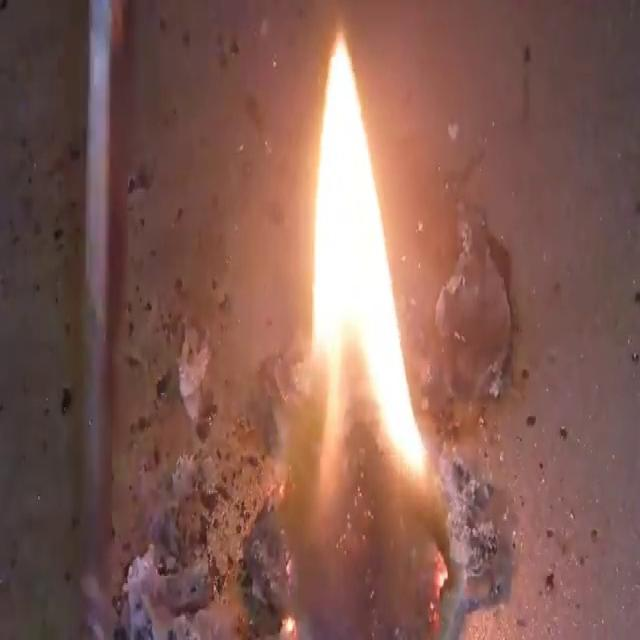Fire: (309, 11, 424, 623)
